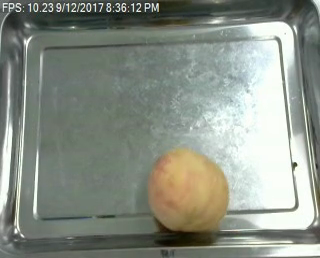Peach: (148, 146, 228, 234)
